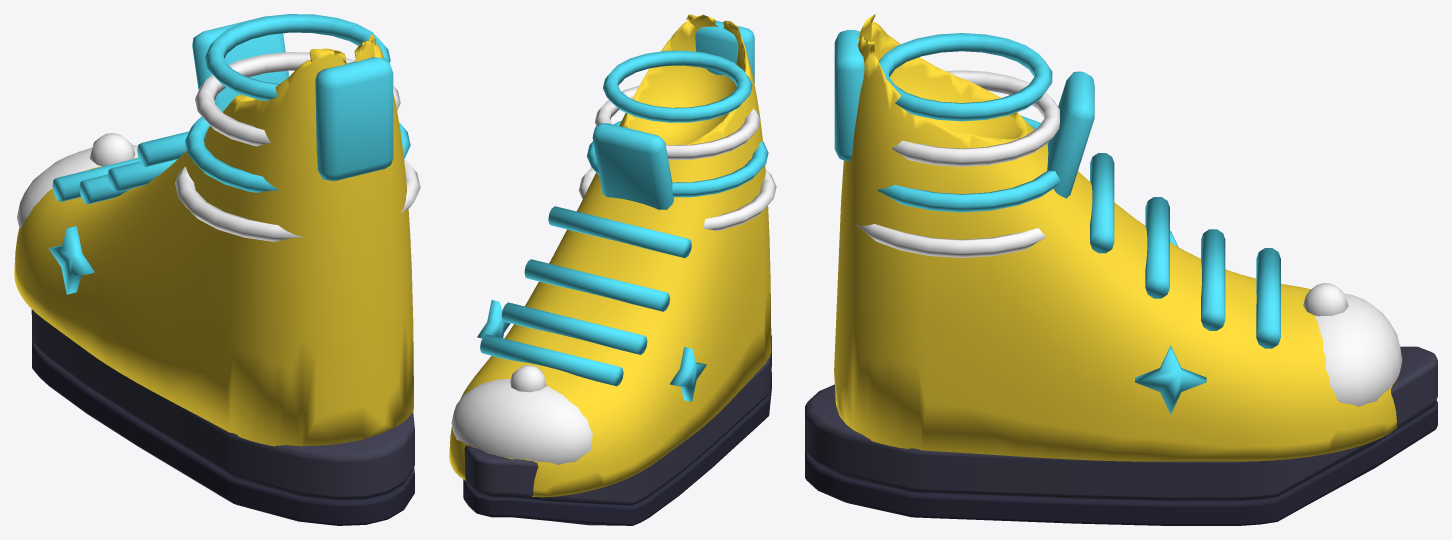
File: shoe_pulsarboots.fbx
The picture shows the model from 3 angles, left to right: view 1: azimuth 30°, elevation 25°; view 2: azimuth 150°, elevation 25°; view 3: azimuth 270°, elevation 25°; orthographic projection. The views are drawn at different scales.
Parts seen in each view (by area): view 1: shoe_pulsarboots; view 2: shoe_pulsarboots; view 3: shoe_pulsarboots.
Part boxes in pixels (bbox=[...]): shoe_pulsarboots: bbox=[14, 14, 420, 525]; shoe_pulsarboots: bbox=[449, 14, 776, 525]; shoe_pulsarboots: bbox=[805, 14, 1437, 525].
Bounding box in the file's own units: 1.73 × 3.03 × 3.88.
1 material, 1 textured.
